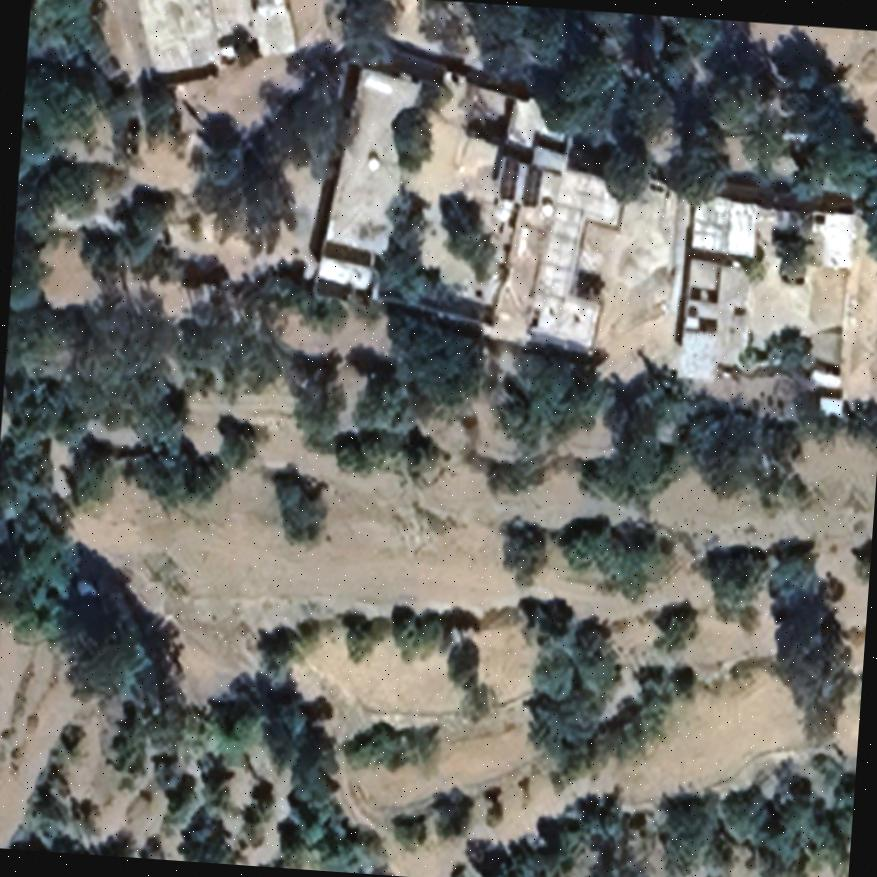Solarpanel: (493, 152, 520, 204), (518, 160, 544, 210)
